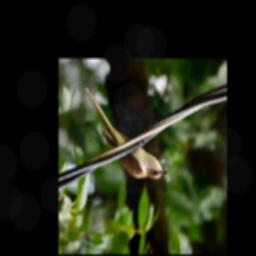Cuckoo: (84, 85, 169, 180)
